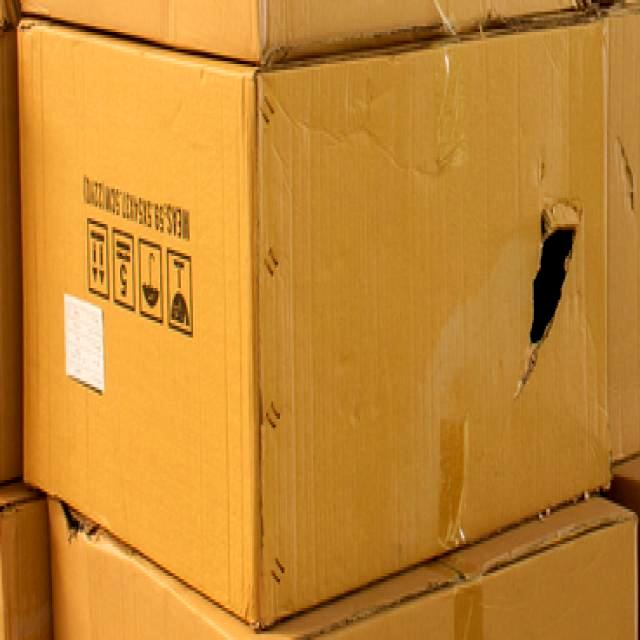Cardboard Box: (530, 203, 577, 350)
Defect: (9, 5, 632, 634)
